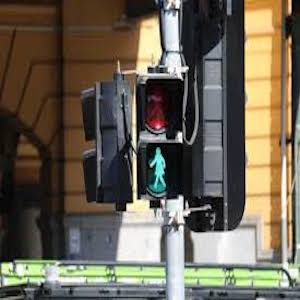green: (143, 146, 174, 193)
